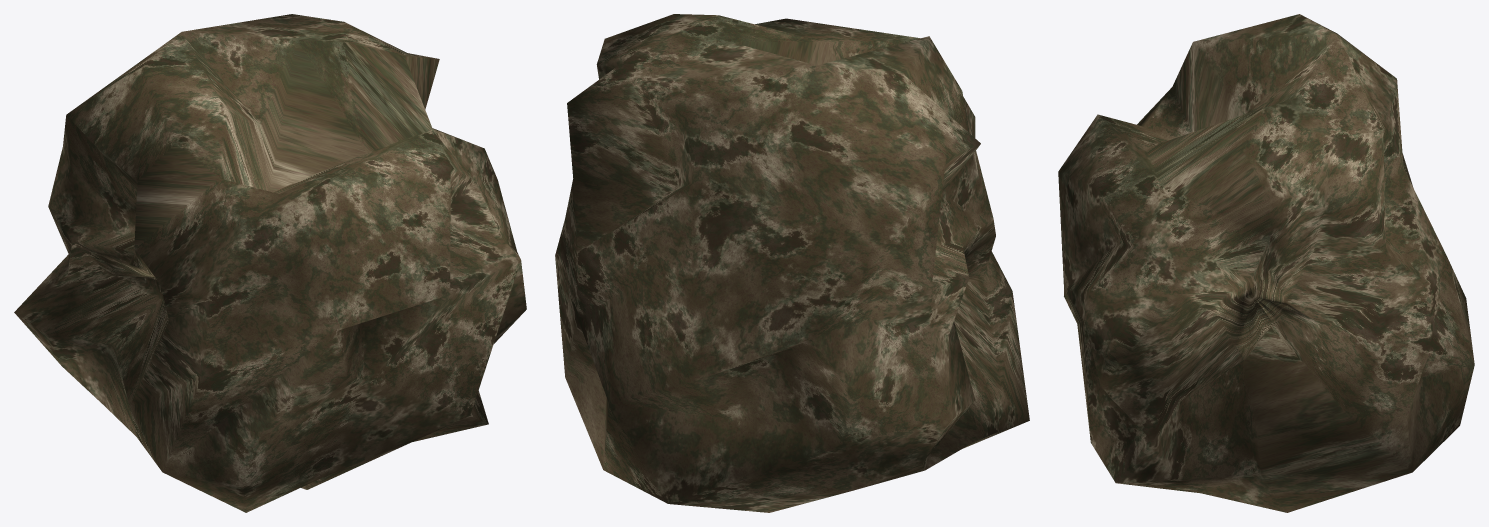
The model's file is asteroid4.obj.
3 renders of one model, left to right at view 1: azimuth 30°, elevation 25°; view 2: azimuth 150°, elevation 25°; view 3: azimuth 270°, elevation 25°, orthographic. The views are drawn at different scales.
Visible parts, largest first — view 1: asteroid_4; view 2: asteroid_4; view 3: asteroid_4.
Boxes of the visible parts, x1,y1,x2,y2 form: asteroid_4: [14, 14, 526, 512]; asteroid_4: [555, 14, 1029, 512]; asteroid_4: [1058, 14, 1474, 512].
Size of the model in its own units: 2.21 by 2.37 by 2.11.
1 material, 1 textured.
